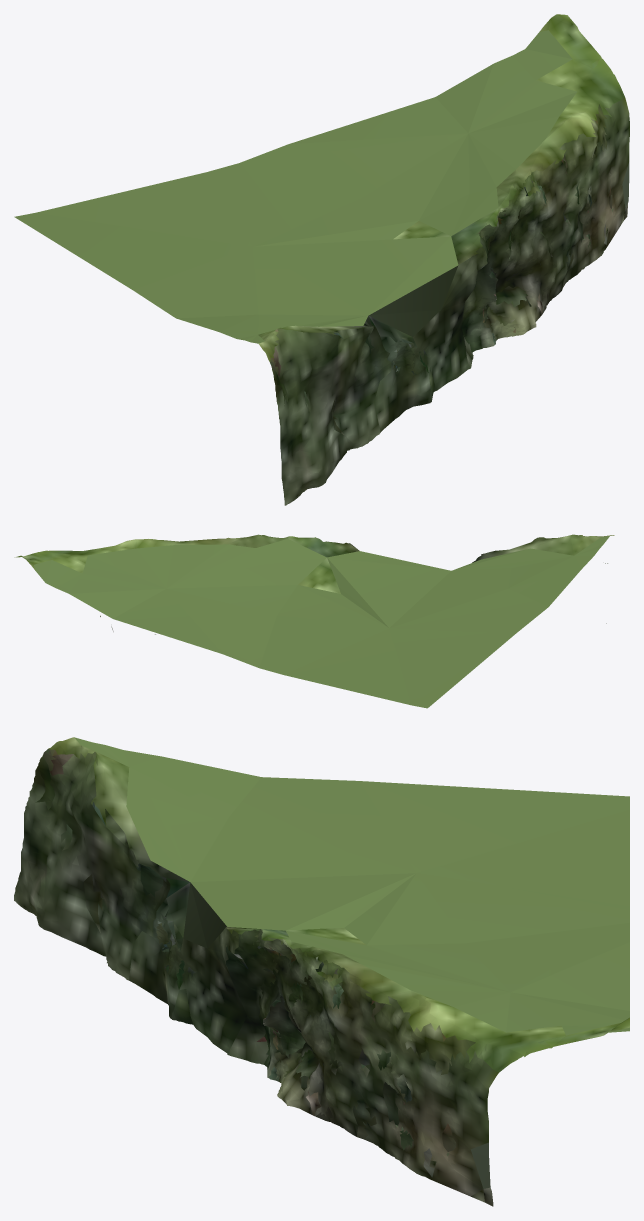
3 views of the same model, one above another, from view 1: azimuth 30°, elevation 25°; view 2: azimuth 150°, elevation 25°; view 3: azimuth 270°, elevation 25° (orthographic). The views are drawn at different scales.
Size of the model in its own units: 0.983 by 0.2732 by 0.8329.
1 material, 1 textured.
